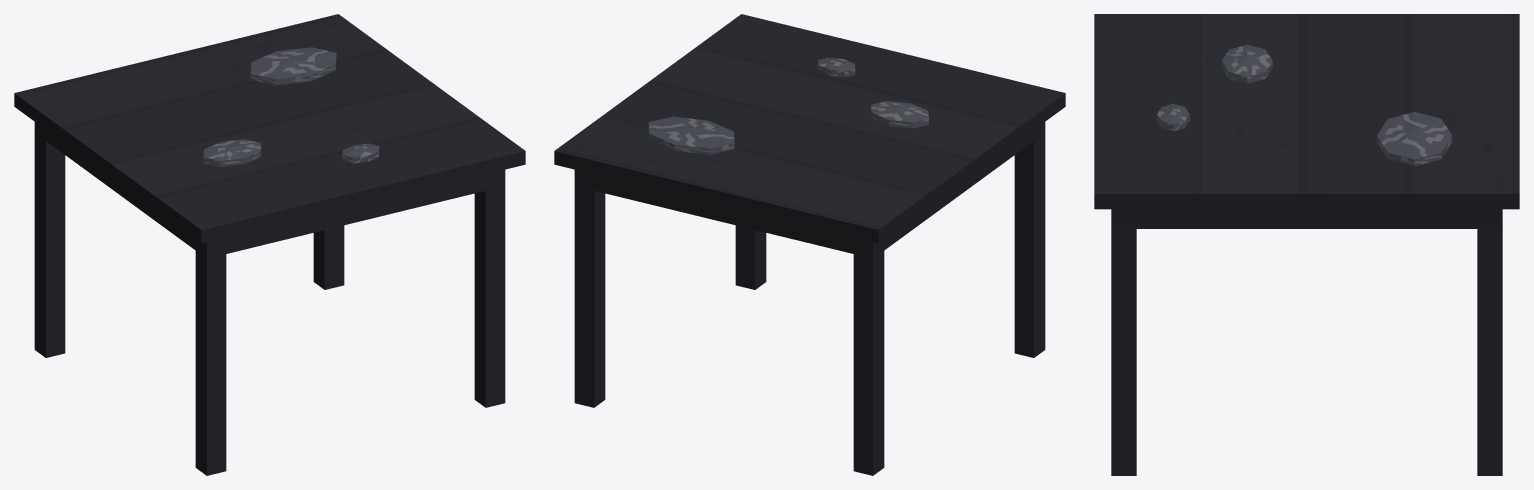
File: f_vitrified_table.glb
3 views of the same model, side by side, from view 1: azimuth 30°, elevation 25°; view 2: azimuth 150°, elevation 25°; view 3: azimuth 270°, elevation 25° (orthographic). The views are drawn at different scales.
Visible parts, largest first — view 1: block_top, block_apron, block_leg-0.460.4, block_leg0.40.4, block_leg-0.46-0.46, block_shallow-frozen-spill (×3), block_leg0.4-0.46; view 2: block_top, block_apron, block_leg-0.46-0.46, block_leg0.4-0.46, block_leg-0.460.4, block_shallow-frozen-spill (×3), block_leg0.40.4; view 3: block_top, block_apron, block_leg0.4-0.46, block_leg0.40.4, block_shallow-frozen-spill (×3).
Part boxes in pixels (box(x1,y1,x2,y2)): block_top: box(14, 14, 525, 243); block_apron: box(34, 122, 505, 258); block_leg-0.460.4: box(195, 251, 226, 475); block_leg0.40.4: box(474, 186, 505, 407); block_leg-0.46-0.46: box(34, 133, 65, 357); block_shallow-frozen-spill (×3): box(203, 47, 379, 166); block_leg0.4-0.46: box(313, 225, 344, 289); block_top: box(554, 14, 1065, 243); block_apron: box(574, 122, 1045, 258); block_leg-0.46-0.46: box(853, 251, 884, 475); block_leg0.4-0.46: box(574, 186, 605, 407); block_leg-0.460.4: box(1014, 133, 1045, 357); block_shallow-frozen-spill (×3): box(648, 57, 928, 154); block_leg0.40.4: box(735, 225, 766, 289); block_top: box(1094, 14, 1519, 209); block_apron: box(1111, 209, 1502, 228); block_leg0.4-0.46: box(1477, 229, 1502, 475); block_leg0.40.4: box(1111, 229, 1136, 475); block_shallow-frozen-spill (×3): box(1157, 45, 1452, 165).
Bounding box in the file's own units: 1 × 0.779 × 1.
2 materials, 2 textured.
